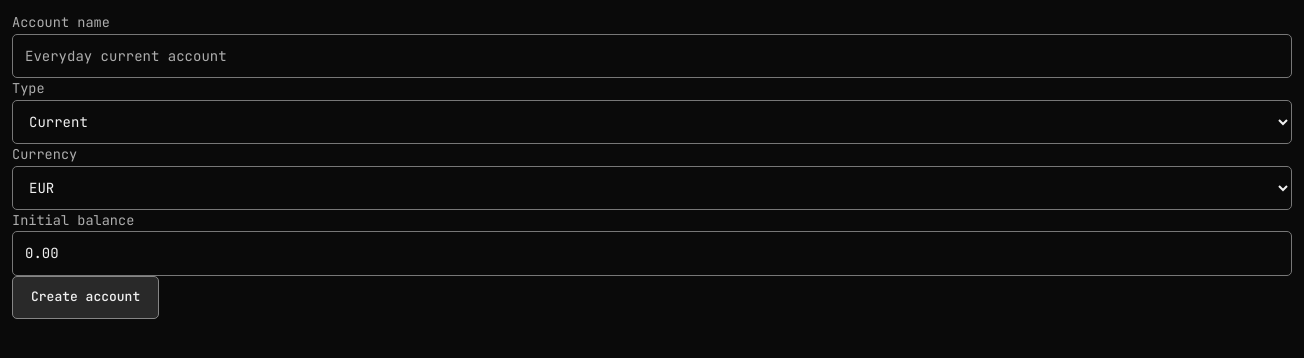
rejects fractional cents before sending a mutation
The width and height of the screenshot is (1304, 358).
Type "Everyday" into the field labelled "Account name". click: [652, 56]
box: [12,34,1292,78]
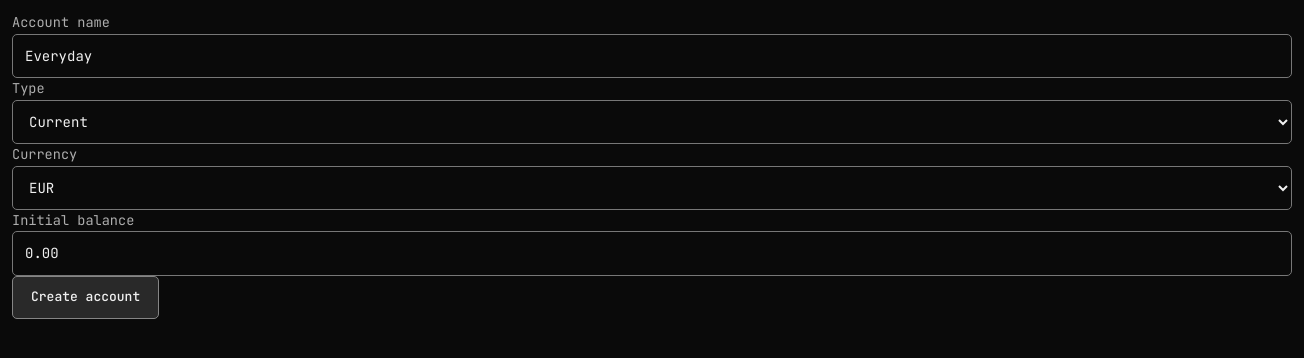
Replace the text in the field labelled "Initial balance" with "1.001". click: [652, 254]
box: [12,231,1292,276]
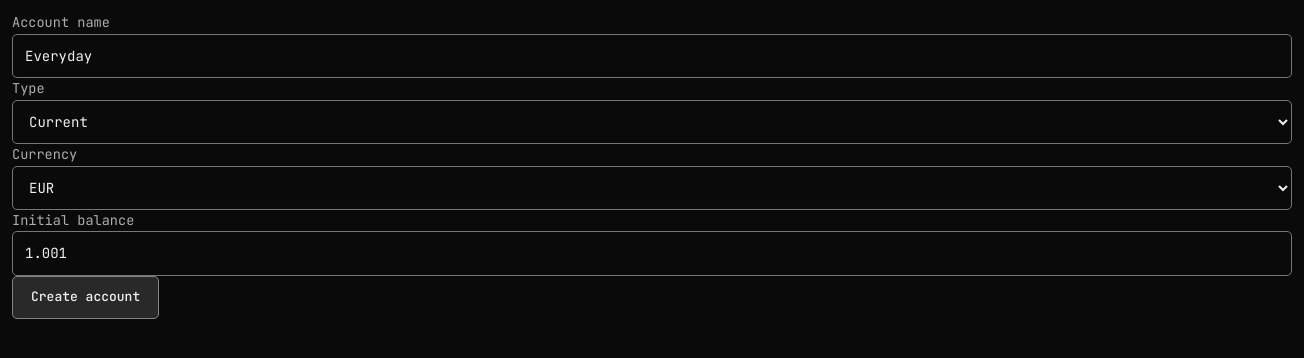
Click the button "Create account". click: [86, 297]
box: [12,276,159,319]
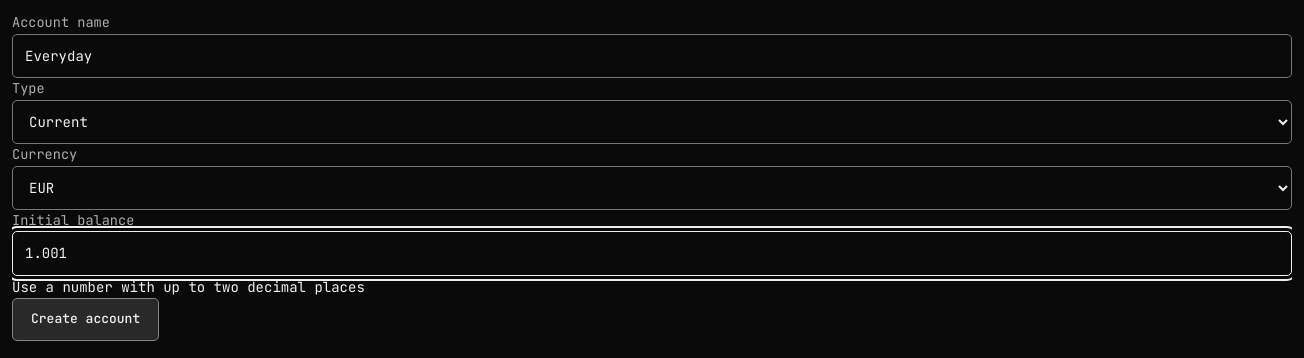
Result: the text "Use a number with up to two decimal places" is shown at [12,278,365,296]
